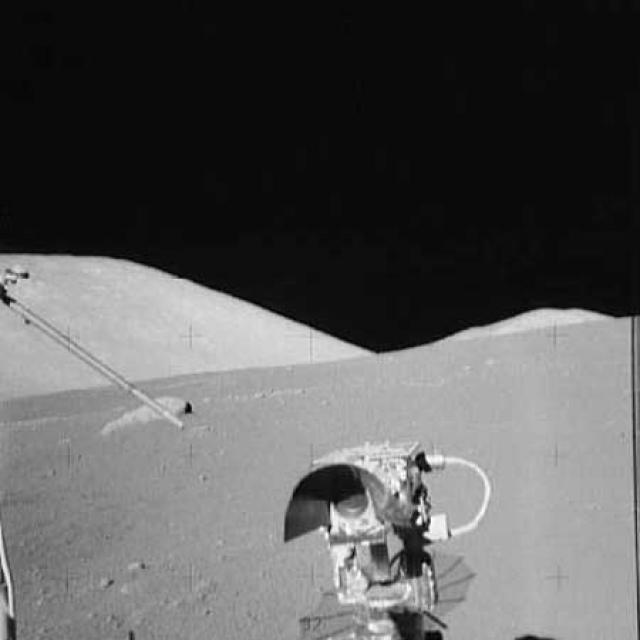artifact: (256, 420, 498, 638), (0, 261, 188, 435), (0, 522, 26, 639)
rock: (81, 389, 198, 435)
